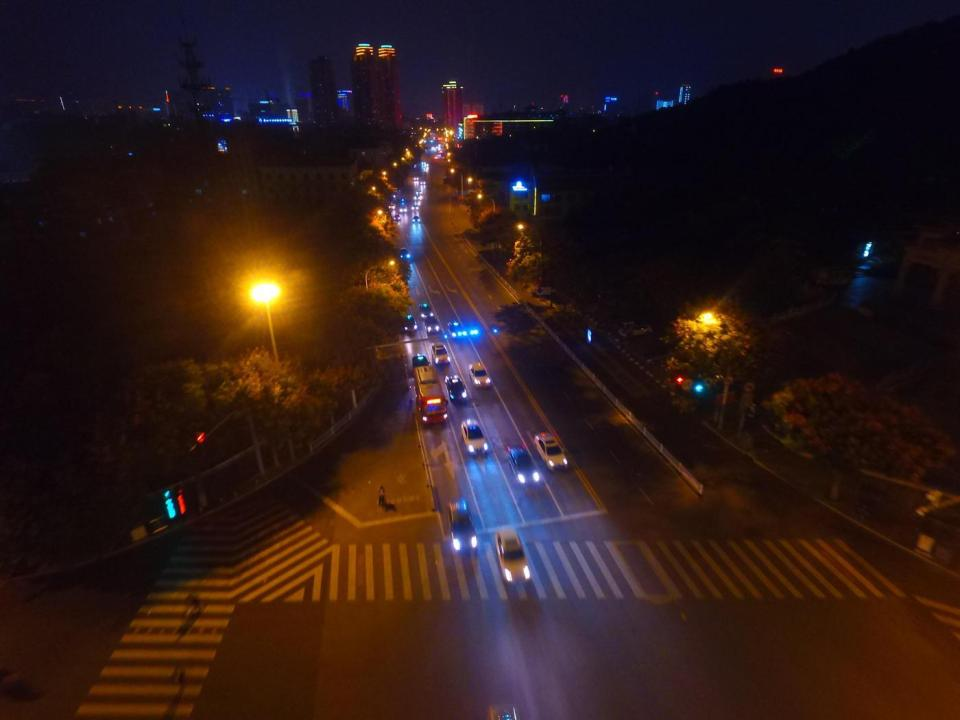bus: (412, 366, 449, 424)
car: (494, 527, 530, 585), (446, 500, 478, 556), (532, 433, 566, 472), (508, 450, 538, 487), (462, 418, 488, 455), (446, 374, 469, 406), (468, 362, 491, 388), (432, 343, 452, 367), (412, 354, 431, 375), (446, 320, 464, 340), (404, 314, 418, 333), (425, 318, 440, 335), (419, 304, 432, 320), (400, 248, 410, 262), (410, 216, 422, 226), (399, 205, 408, 214), (387, 202, 397, 210), (418, 180, 426, 188), (393, 214, 402, 221), (414, 190, 422, 197), (412, 174, 420, 181), (411, 204, 419, 210), (415, 195, 421, 201)
